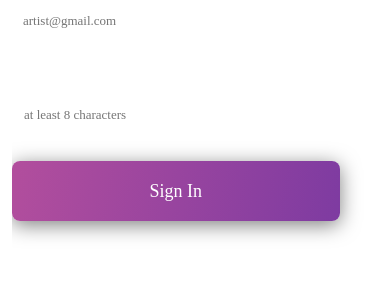
Form › should display an error message when password is too short
Type "1234" into the password field with test id "passwordInput".
click(153, 115); type("1234")  # box [13,90,293,140]
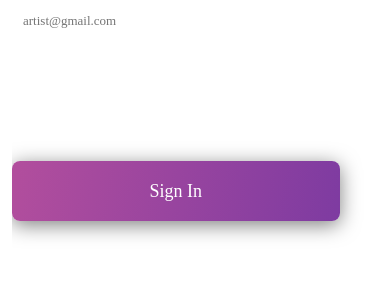
Click the element with test id "SignInButton".
click(176, 191)  # box [12,161,340,221]
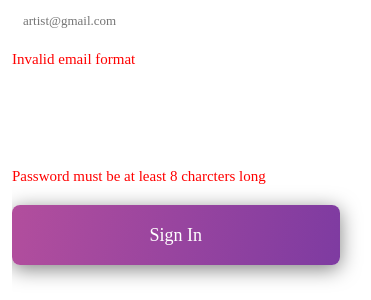
Check: the text "Password must be at least 8 charcters long" is shown, box [12,168,266,184]
